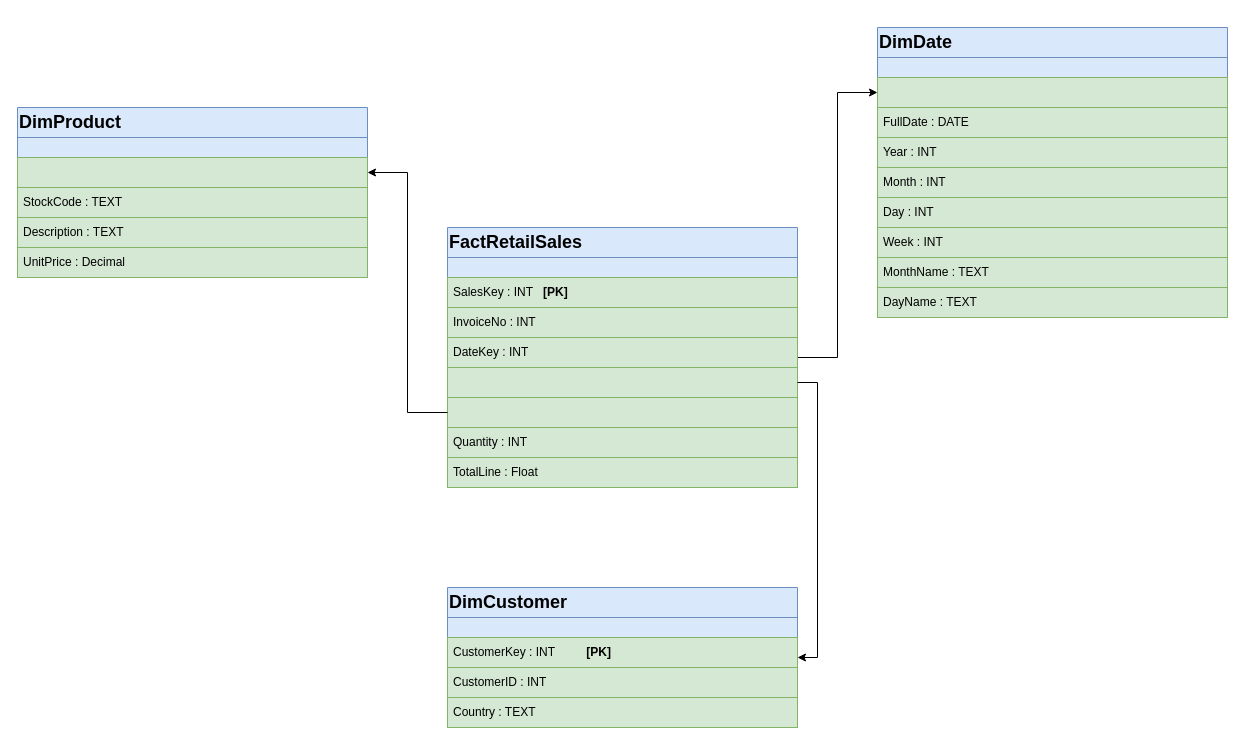
This 1245x745 diagram has some shape labels left out. The shapes that lost their labels are listed below. From the top down, each one's centre as x and y in pixels, then its label:
the point at 1052,67: [Dates]
the point at 1052,92: DateKey : INT [PK]
the point at 192,147: [Products]
the point at 192,172: ProductKey : INT [PK]
the point at 622,267: [RetailSales]
the point at 622,382: CustomerKey : INT
the point at 622,412: ProductKey : INT
the point at 622,627: [Customers]
